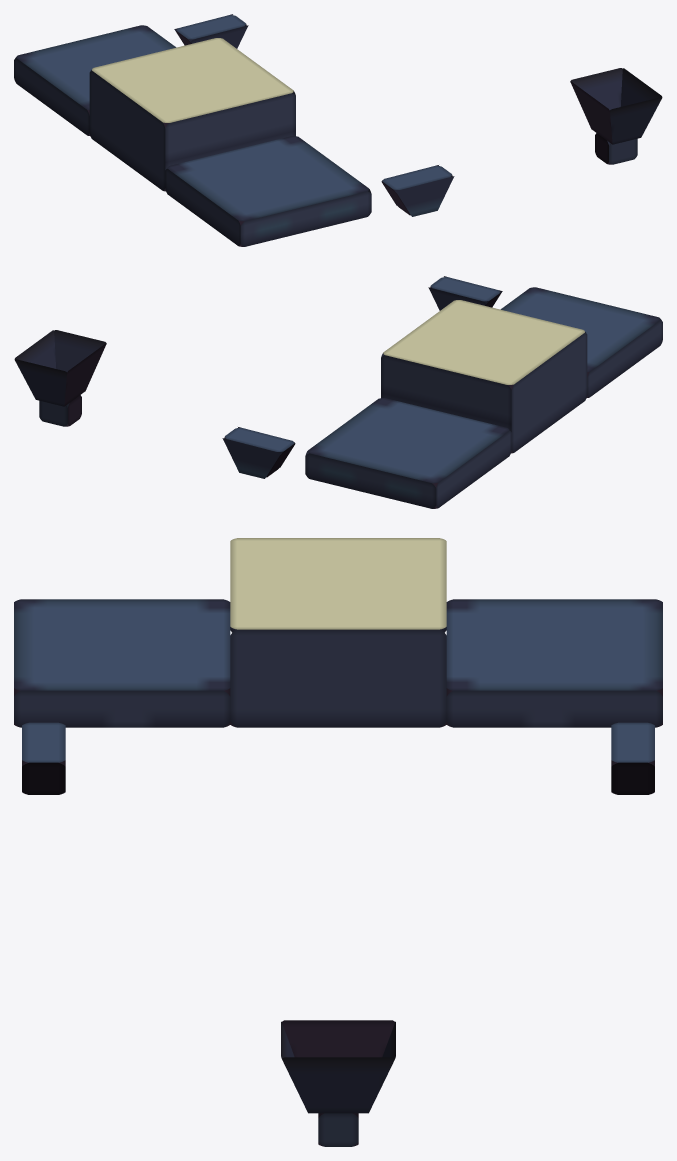
The model's file is hxd3d_top.obj.
The picture shows the model from 3 angles, top to bottom: view 1: azimuth 30°, elevation 25°; view 2: azimuth 150°, elevation 25°; view 3: azimuth 270°, elevation 25°; orthographic projection. The views are drawn at different scales.
Visible parts, largest first — view 1: 定位; view 2: 定位; view 3: 定位.
Part boxes in pixels (x1,y1,x2,y2): 定位: (14, 14, 662, 246); 定位: (14, 276, 662, 508); 定位: (14, 538, 662, 1146).
Size of the model in its own units: 3.94 by 1.31 by 3.
